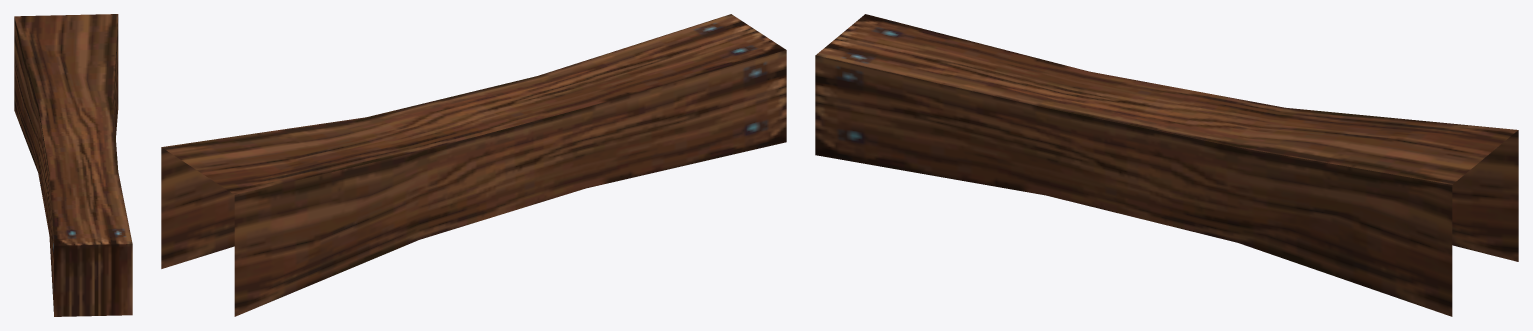
The model's file is OVERHILL_A_01_POST31.fbx.
3 renders of one model, left to right at view 1: azimuth 30°, elevation 25°; view 2: azimuth 150°, elevation 25°; view 3: azimuth 270°, elevation 25°, orthographic. The views are drawn at different scales.
Parts seen in each view (by area): view 1: OVERHILL_A_01_POST31; view 2: OVERHILL_A_01_POST31; view 3: OVERHILL_A_01_POST31.
Part boxes in pixels (x1,y1,x2,y2): OVERHILL_A_01_POST31: (14, 14, 132, 316); OVERHILL_A_01_POST31: (161, 14, 786, 316); OVERHILL_A_01_POST31: (815, 14, 1518, 316).
Bounding box in the file's own units: 13053 × 4299 × 20734.
1 material, 1 textured.
